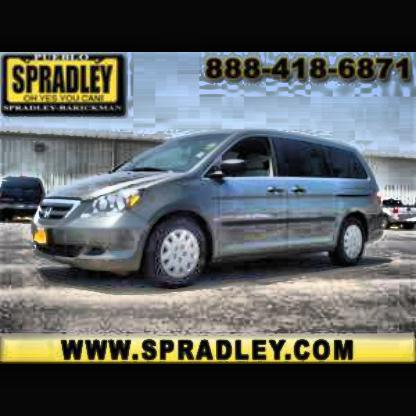Honda Odyssey Minivan 2007: (29, 129, 396, 298)
